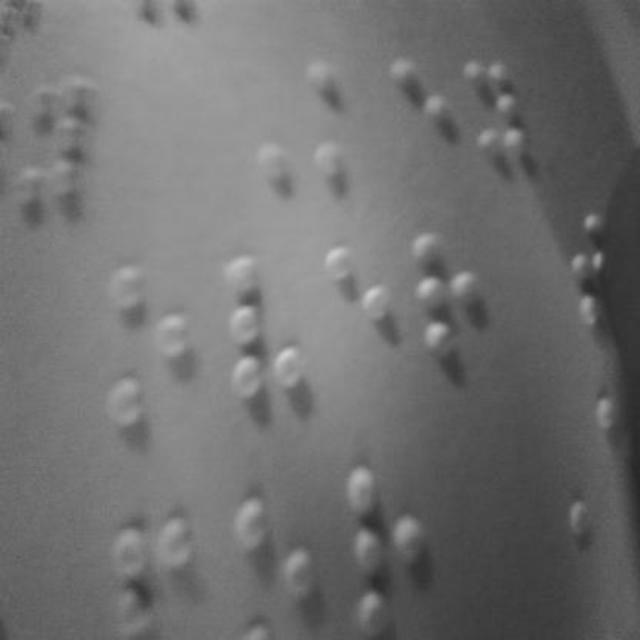braiile: (104, 262, 196, 428), (342, 461, 428, 634), (222, 248, 310, 402), (10, 66, 94, 212), (321, 238, 393, 386), (412, 219, 484, 365), (308, 54, 380, 190), (458, 54, 530, 182), (388, 52, 456, 185)
